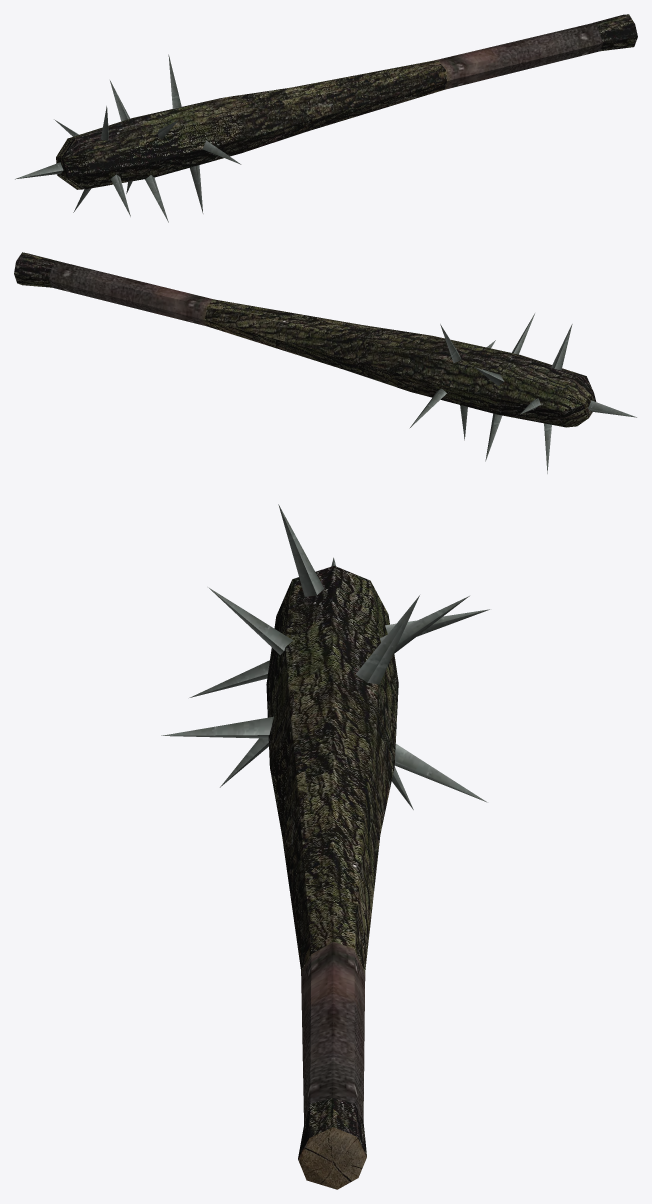
File: KM_FROGMACE.glb
3 renders of one model, top to bottom at view 1: azimuth 30°, elevation 25°; view 2: azimuth 150°, elevation 25°; view 3: azimuth 270°, elevation 25°, orthographic. The views are drawn at different scales.
Visible parts, largest first — view 1: KM_FROGMACE; view 2: KM_FROGMACE; view 3: KM_FROGMACE.
Boxes of the visible parts, x1,y1,x2,y2 form: KM_FROGMACE: (15,14,637,222); KM_FROGMACE: (14,252,636,473); KM_FROGMACE: (161,504,489,1189).
Bounding box in the file's own units: 1.47 × 0.3212 × 0.342.
4 materials, 4 textured.
